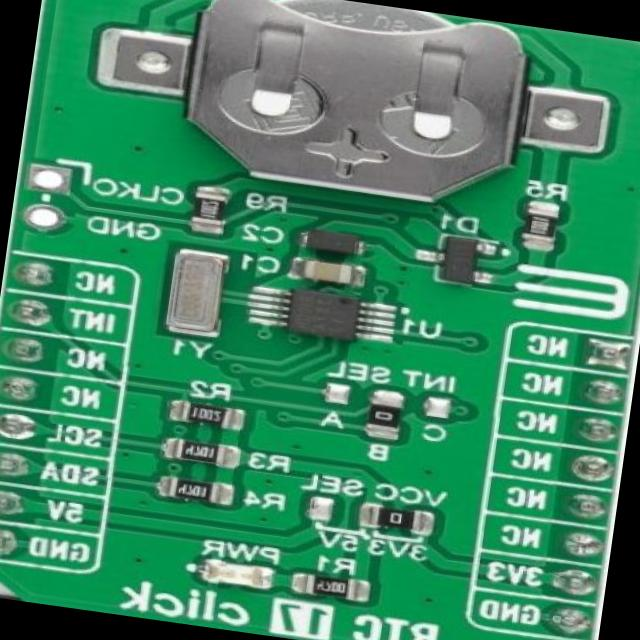IC: (264, 286, 388, 352)
LED: (196, 555, 274, 594)
capacitor: (291, 230, 365, 258), (287, 260, 358, 288)
resistor: (358, 504, 422, 540), (162, 473, 219, 507), (186, 190, 226, 232), (180, 399, 228, 432), (168, 439, 228, 465), (367, 394, 399, 442), (300, 575, 350, 604), (518, 209, 554, 249)
transistor: (424, 232, 490, 288)
